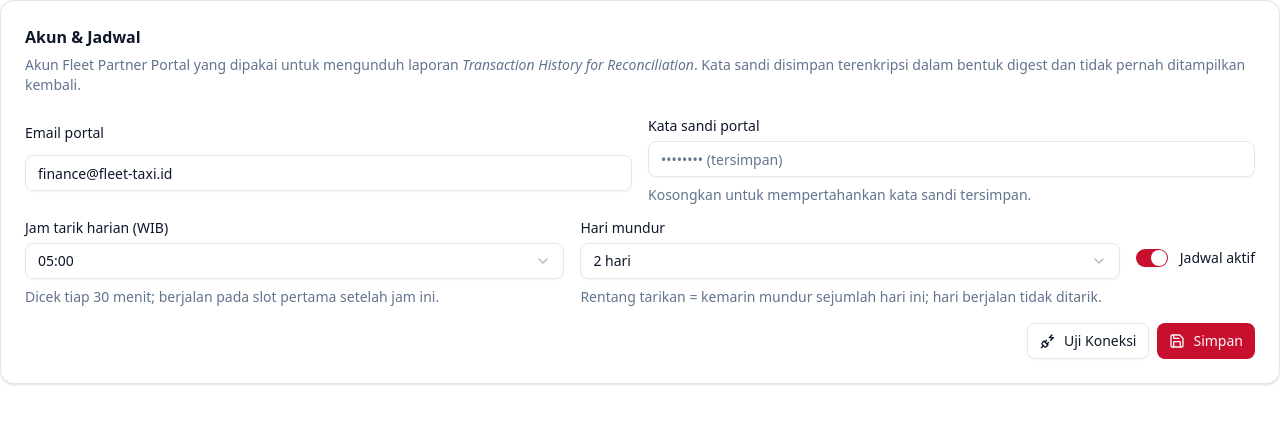
SettingsForm › saves the account + schedule and reports success
Replace the text in the field labelled "Email portal" with "ops@fleet-taxi.id". click: (328, 173)
box: [25,155,632,191]
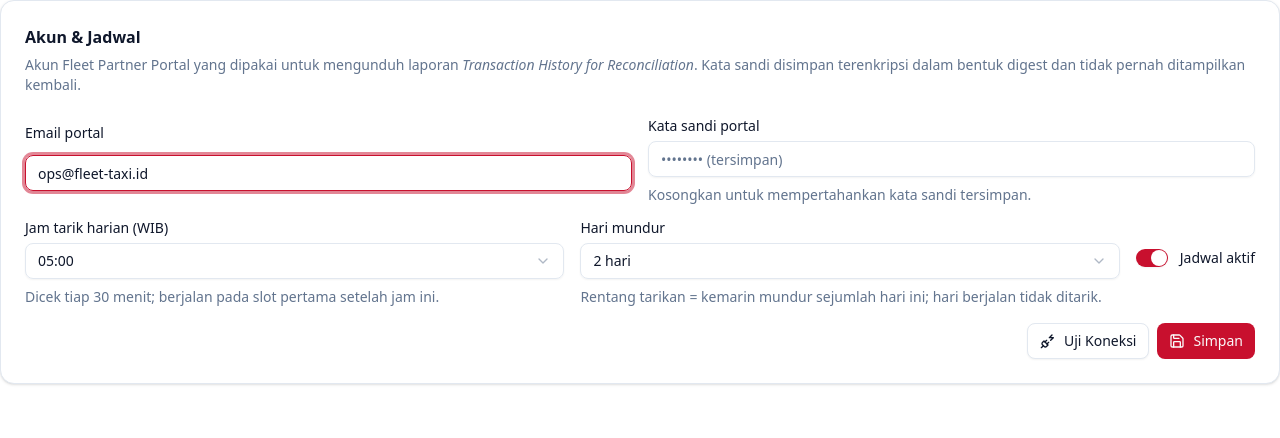
Click the button "Simpan". click: click(1206, 341)
box: [1158,323,1255,359]
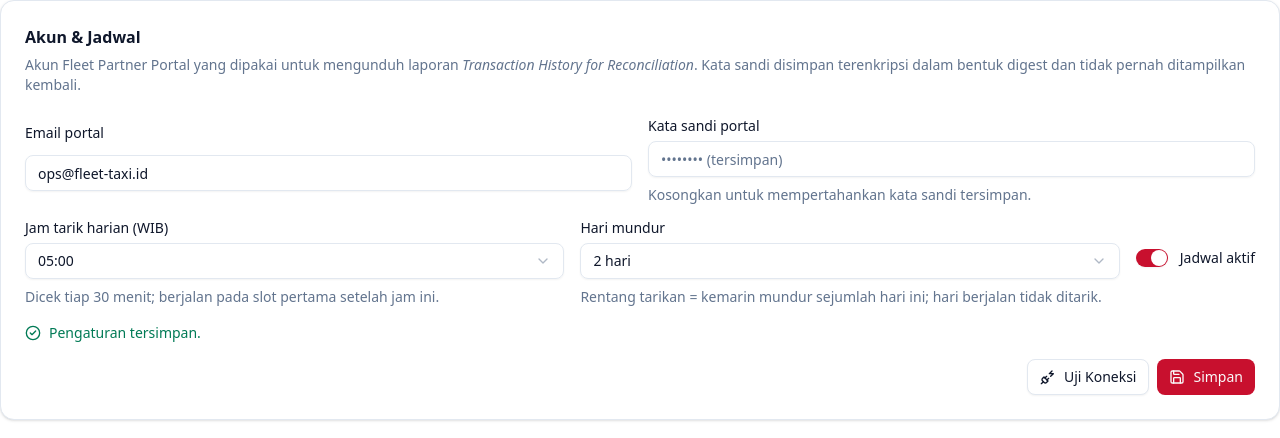
Now the text "Pengaturan tersimpan." is shown, box [25,323,201,342]
